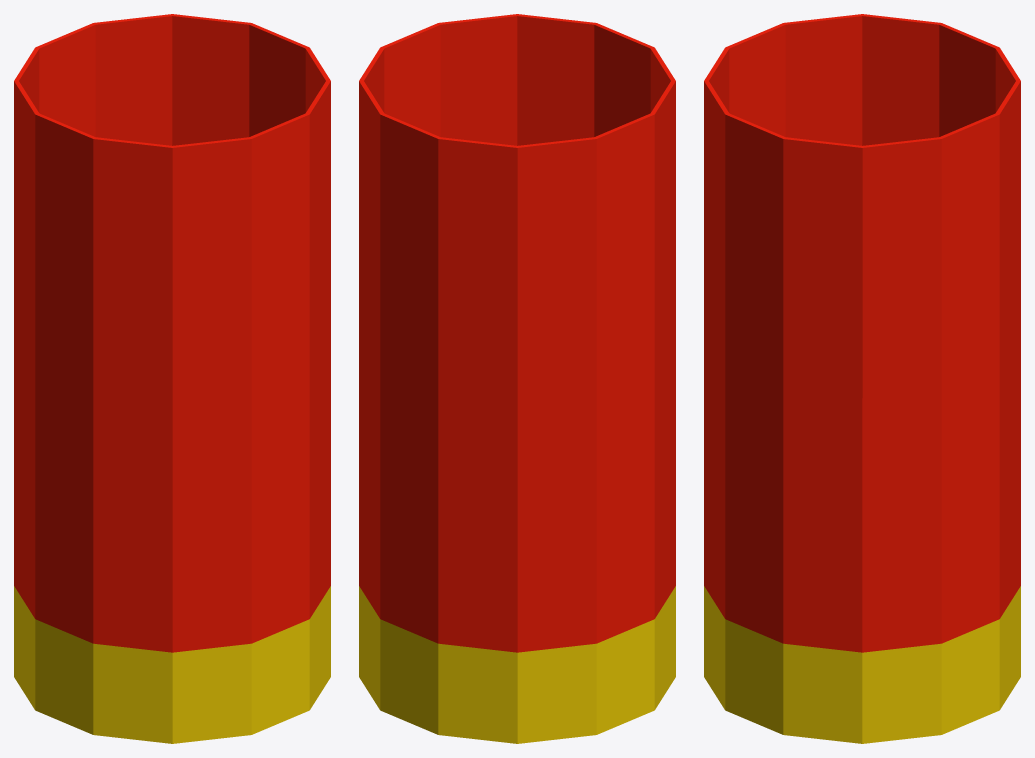
File: Shotgun_Shell_0.fbx
3 views of the same model, side by side, from view 1: azimuth 30°, elevation 25°; view 2: azimuth 150°, elevation 25°; view 3: azimuth 270°, elevation 25° (orthographic).
Visible parts, largest first — view 1: Ammo_SH; view 2: Ammo_SH; view 3: Ammo_SH.
Part boxes in pixels (x1=…): Ammo_SH: x1=14, y1=14, x2=330, y2=743; Ammo_SH: x1=359, y1=14, x2=675, y2=743; Ammo_SH: x1=704, y1=14, x2=1020, y2=743.
Bounding box in the file's own units: 27.54 × 57.14 × 27.54.
